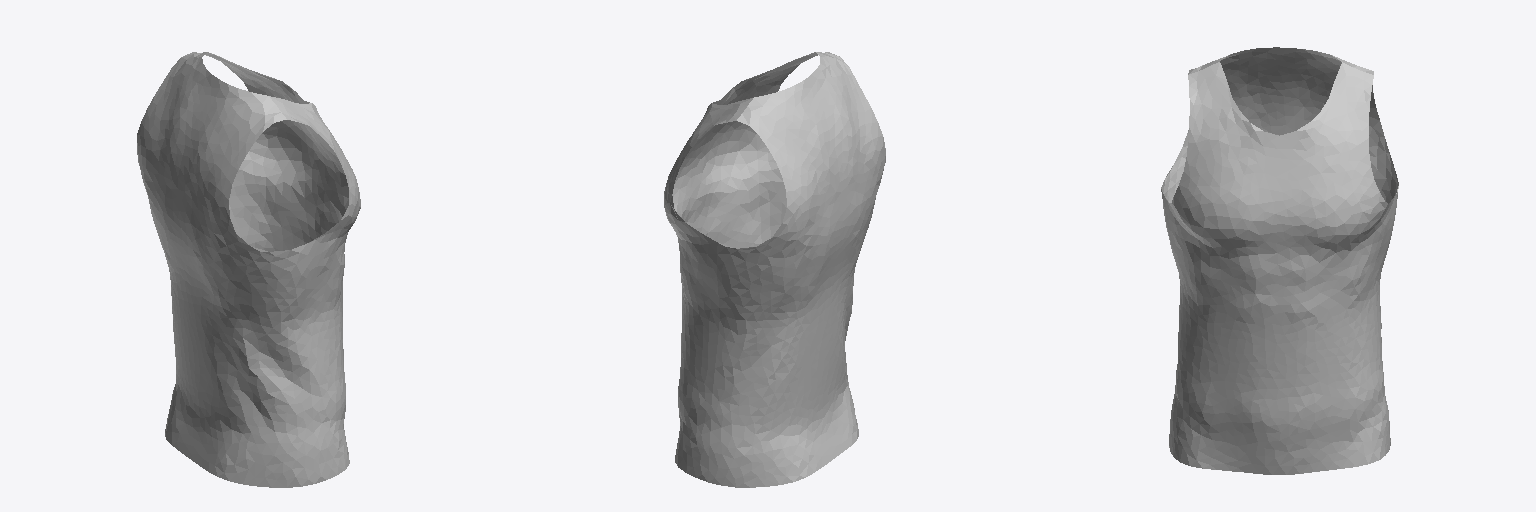
File: camisilla.obj
3 views of the same model, side by side, from view 1: azimuth 30°, elevation 25°; view 2: azimuth 150°, elevation 25°; view 3: azimuth 270°, elevation 25° (orthographic).
Visible parts, largest first — view 1: default002; view 2: default002; view 3: default002.
Boxes of the visible parts, box(x1,y1,x2,y2) form: default002: box(137, 52, 360, 487); default002: box(664, 52, 885, 487); default002: box(1161, 47, 1398, 474).
Bounding box in the file's own units: 25.84 × 60.77 × 34.66.